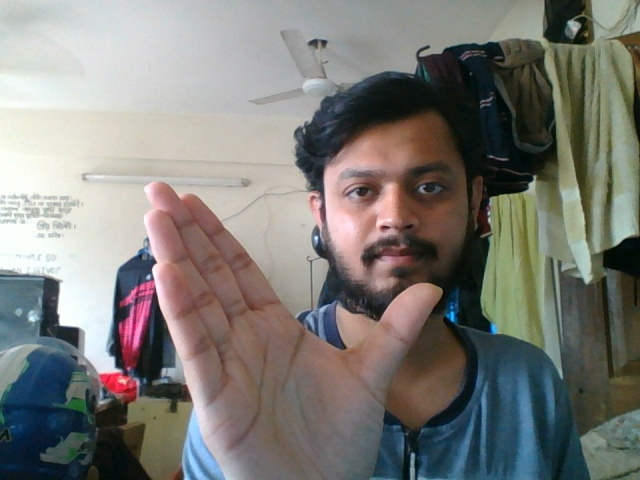a: (117, 168, 448, 480)
